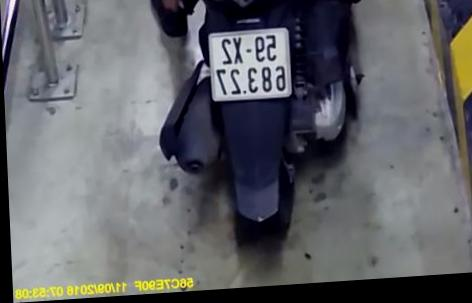License_Plate: (203, 21, 301, 108)
